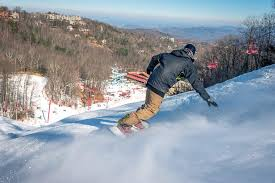snowboarder: (105, 44, 219, 143)
